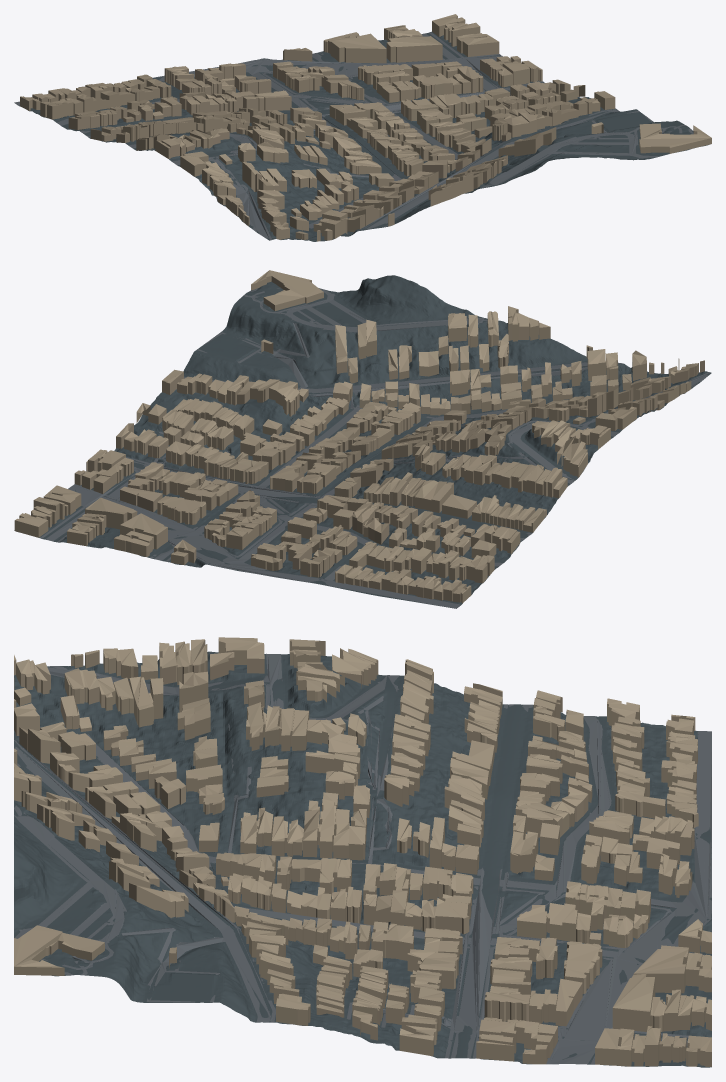
The model's file is epsg26910-1430-10884.lod0.glb.
The picture shows the model from 3 angles, top to bottom: view 1: azimuth 30°, elevation 25°; view 2: azimuth 150°, elevation 25°; view 3: azimuth 270°, elevation 25°; orthographic projection. The views are drawn at different scales.
Parts seen in each view (by area): view 1: epsg26910-1430-10884-lod0; view 2: epsg26910-1430-10884-lod0; view 3: epsg26910-1430-10884-lod0.
Part boxes in pixels (<box>): epsg26910-1430-10884-lod0: <box>14,14,711,241</box>; epsg26910-1430-10884-lod0: <box>14,270,711,608</box>; epsg26910-1430-10884-lod0: <box>14,637,711,1067</box>.
Bounding box in the file's own units: 384 × 83.22 × 384.
